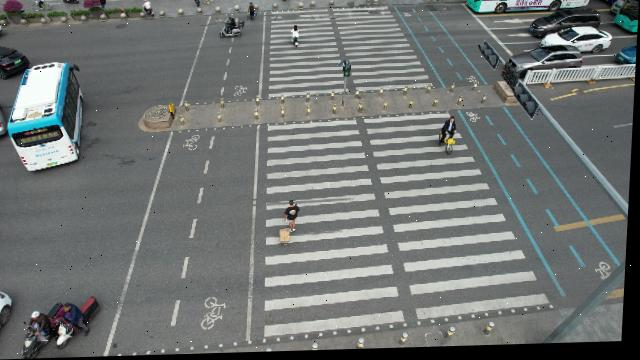non-motor-vehicle: (61, 297, 103, 346), (28, 305, 57, 356), (439, 119, 463, 158), (219, 18, 249, 43), (287, 25, 304, 51), (135, 0, 158, 18)
person: (278, 200, 309, 250), (246, 2, 259, 24)
